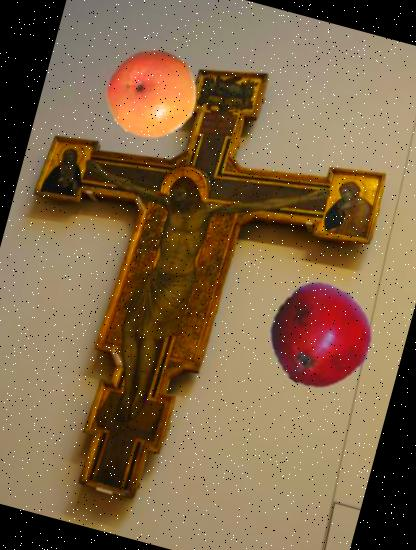Grapefruit: (97, 38, 210, 151)
Pomegranate: (256, 274, 382, 400)
